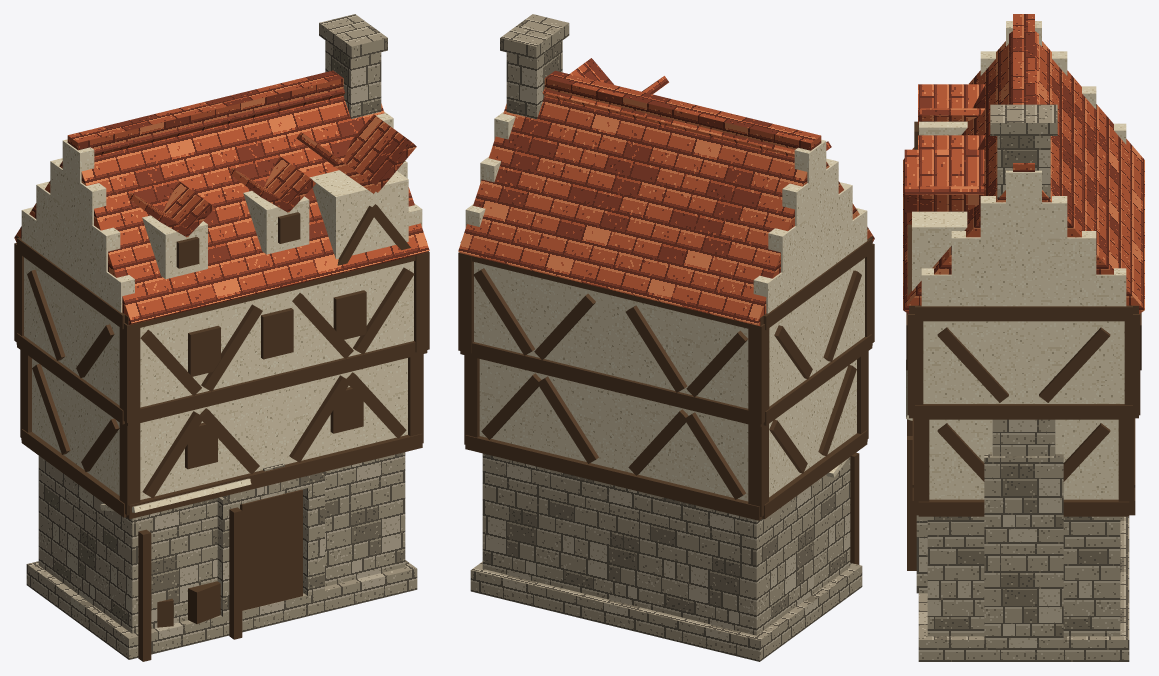
The model's file is town_hall_t1.glb.
3 views of the same model, side by side, from view 1: azimuth 30°, elevation 25°; view 2: azimuth 150°, elevation 25°; view 3: azimuth 270°, elevation 25° (orthographic). The views are drawn at different scales.
Parts seen in each view (by area): view 1: roof_slab_1, ground_floor, storey_2, storey_1, plinth, door_slab, ridge_cap, gablet_body, beam_y_1_1, beam_y_0_1, gable_1_0, gablet_roof_0 (+50 smaller); view 2: roof_slab_0, ground_floor, storey_2, storey_1, plinth, ridge_cap, beam_y_0_0, beam_y_1_0, gable_1_0, gable_1_1, chimney_top, roof_slab_1 (+26 smaller); view 3: chimney_base, roof_slab_0, storey_2, ground_floor, storey_1, gable_0_0, plinth, gable_0_1, roof_slab_1, beam_x_2_0, gable_0_2, beam_x_1_0 (+24 smaller).
Boxes of the visible parts, left/top/right/bottom form: roof_slab_1: left=70, top=96, right=429, bottom=324; ground_floor: left=38, top=452, right=405, bottom=633; storey_2: left=24, top=257, right=413, bottom=407; storey_1: left=32, top=358, right=407, bottom=499; plinth: left=26, top=560, right=417, bottom=659; door_slab: left=240, top=489, right=302, bottom=610; ridge_cap: left=67, top=70, right=343, bottom=150; gablet_body: left=309, top=170, right=408, bottom=259; beam_y_1_1: left=125, top=341, right=427, bottom=425; beam_y_0_1: left=126, top=433, right=422, bottom=519; gable_1_0: left=21, top=207, right=134, bottom=312; gablet_roof_0: left=343, top=114, right=416, bottom=192; roof_slab_0: left=458, top=96, right=818, bottom=325; ground_floor: left=482, top=453, right=850, bottom=635; storey_2: left=474, top=258, right=864, bottom=408; storey_1: left=479, top=359, right=856, bottom=501; plinth: left=470, top=561, right=862, bottom=661; ridge_cap: left=544, top=70, right=821, bottom=150; beam_y_0_0: left=465, top=435, right=762, bottom=520; beam_y_1_0: left=460, top=342, right=763, bottom=427; gable_1_0: left=753, top=208, right=867, bottom=313; gable_1_1: left=768, top=182, right=852, bottom=272; chimney_top: left=506, top=41, right=562, bottom=119; roof_slab_1: left=542, top=88, right=874, bottom=242; chimney_base: left=984, top=454, right=1063, bottom=643; roof_slab_0: left=1009, top=31, right=1144, bottom=313; storey_2: left=923, top=321, right=1124, bottom=403; ground_floor: left=927, top=516, right=1120, bottom=636; storey_1: left=929, top=419, right=1118, bottom=499; gable_0_0: left=921, top=268, right=1126, bottom=306; plinth: left=918, top=516, right=1129, bottom=661; gable_0_1: left=951, top=231, right=1096, bottom=275; roof_slab_1: left=903, top=31, right=1038, bottom=313; beam_x_2_0: left=915, top=305, right=1132, bottom=321; gable_0_2: left=980, top=196, right=1067, bottom=240; beam_x_1_0: left=915, top=404, right=1132, bottom=419.
Size of what is drawn, in the model's own units: 3.03 by 4.96 by 2.01.
Materials: 4 (3 with a texture image).
